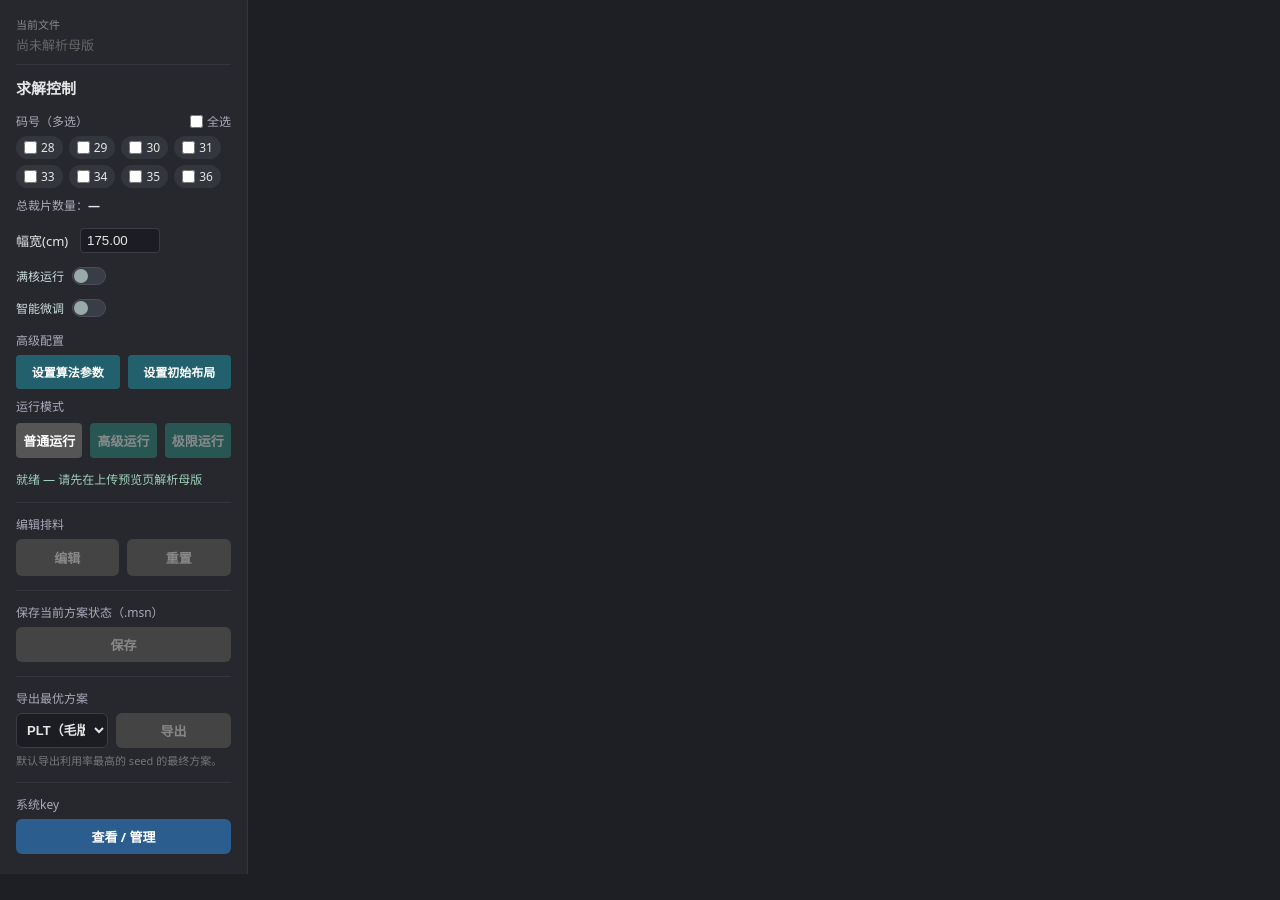
US-027 NestingPage phase 转换 › 3c) running->(final)->done：状态行含「完成」+ density + #restart 切「再次求解」
The width and height of the screenshot is (1280, 900).
What coordinates should you click on to do the following:
click the checkbox labelled "28"
I would click on:
 (30, 148)
Its box is [24,141,37,154].
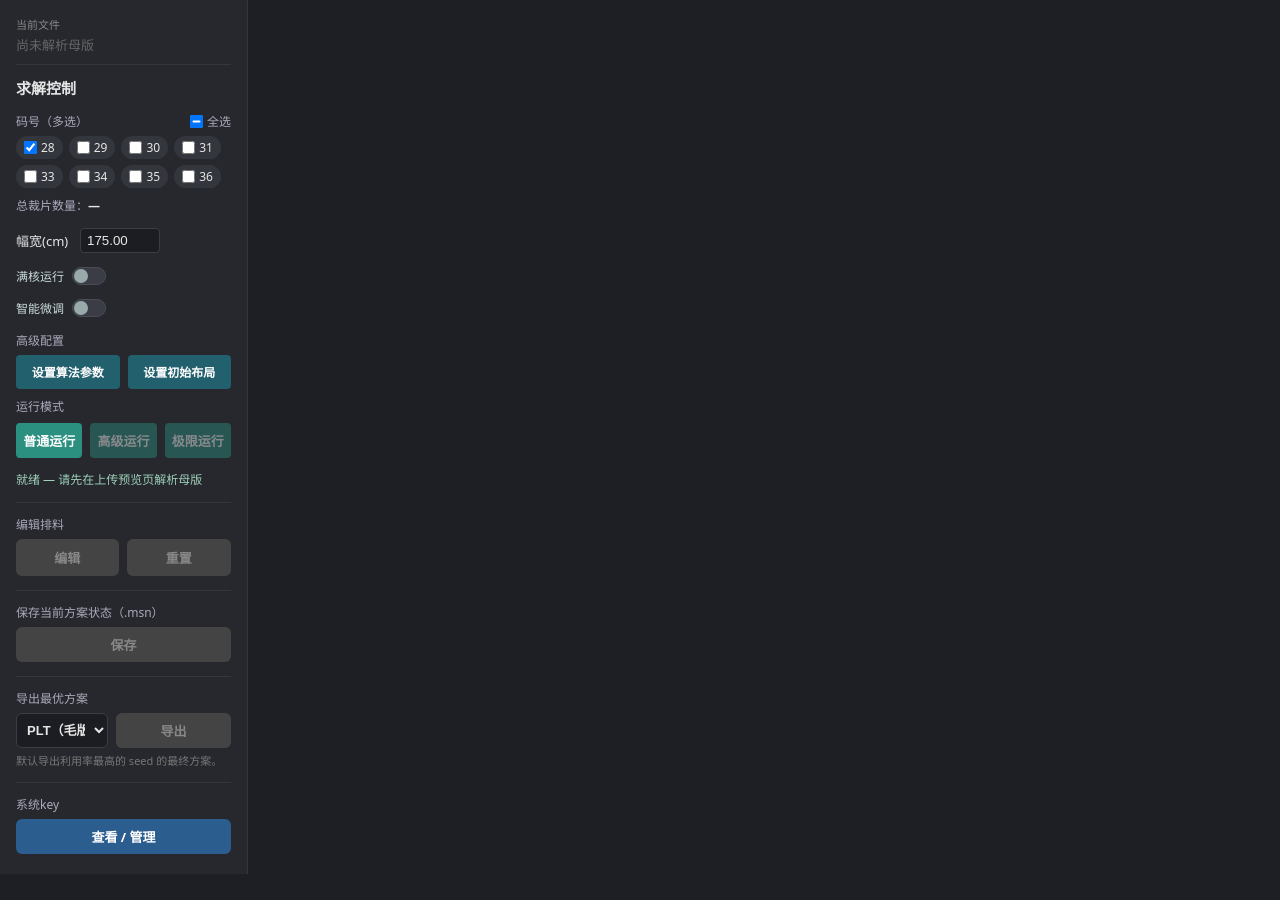
What coordinates should you click on to do the following:
click the button with id "start"
I would click on:
 (49, 440)
Its box is [16,423,82,458].
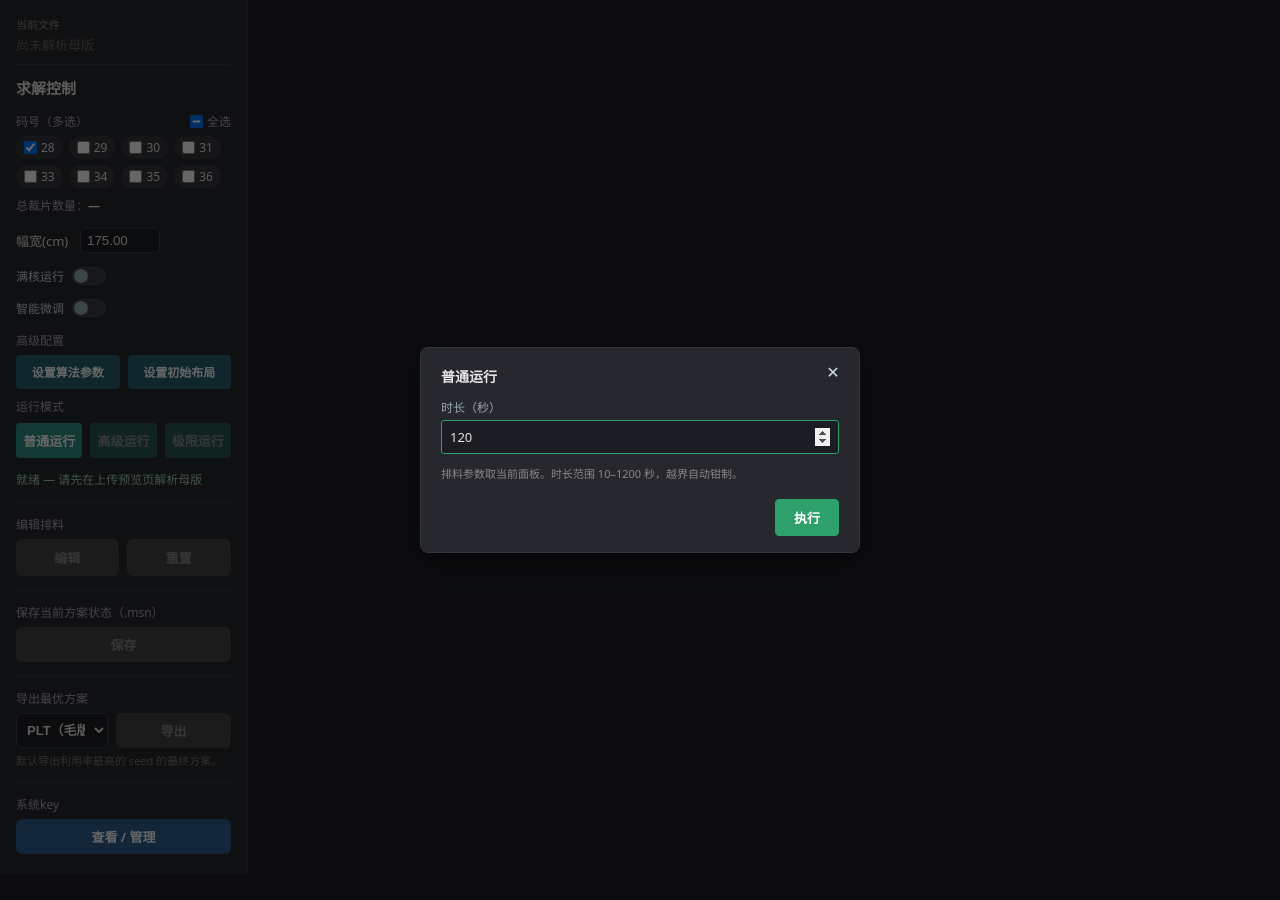
What coordinates should you click on to do the following:
click the button with test id "normal-run-confirm"
I would click on:
 (807, 517)
Its box is [775,499,839,536].
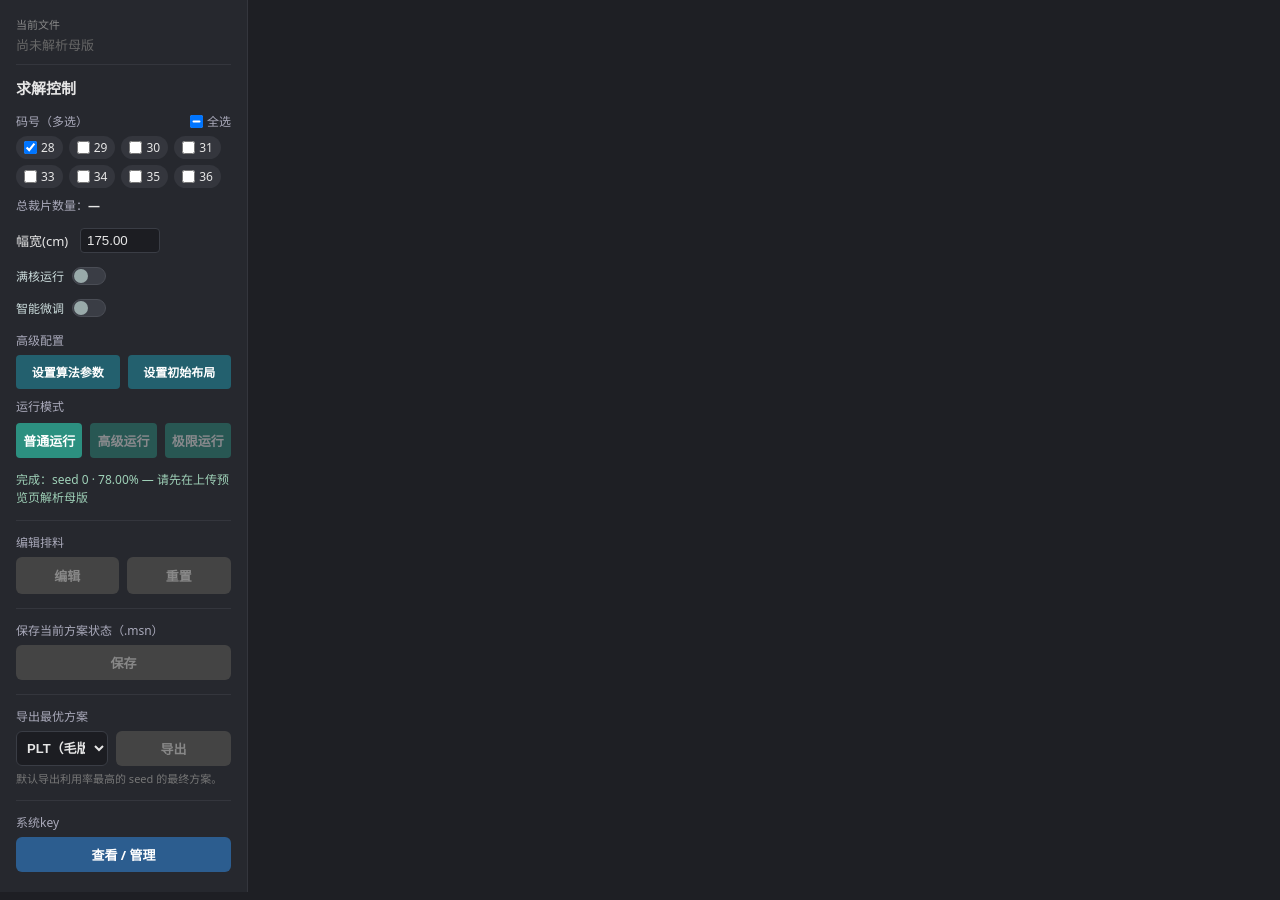
Expected: the button with id "start" reads "普通运行", [16,423,82,458]
Expected: the text with id "status" shows "完成", [16,471,229,506]
Expected: the text with id "status" shows "78.00%", [16,471,229,506]
